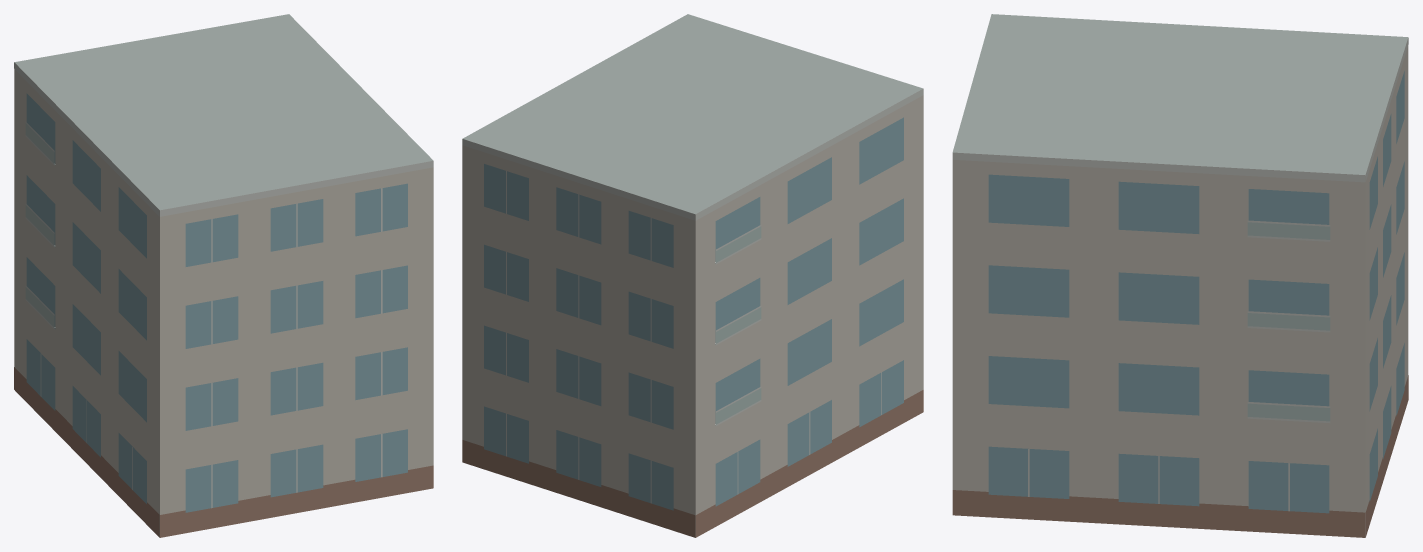
File: survey-upis-32674717.glb
3 views of the same model, side by side, from view 1: azimuth 30°, elevation 25°; view 2: azimuth 150°, elevation 25°; view 3: azimuth 270°, elevation 25° (orthographic). The views are drawn at different scales.
Parts seen in each view (by area): view 1: survey-upis-32674717.tmp; view 2: survey-upis-32674717.tmp; view 3: survey-upis-32674717.tmp.
Boxes of the visible parts, left/top/right/bottom form: survey-upis-32674717.tmp: left=14, top=14, right=433, bottom=537; survey-upis-32674717.tmp: left=462, top=14, right=923, bottom=537; survey-upis-32674717.tmp: left=952, top=14, right=1408, bottom=537.
Size of the model in its own units: 11.63 by 12.2 by 13.91.
